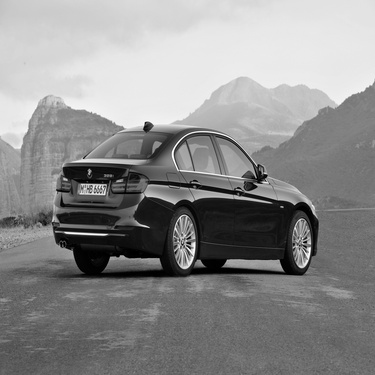car: (42, 117, 325, 281)
